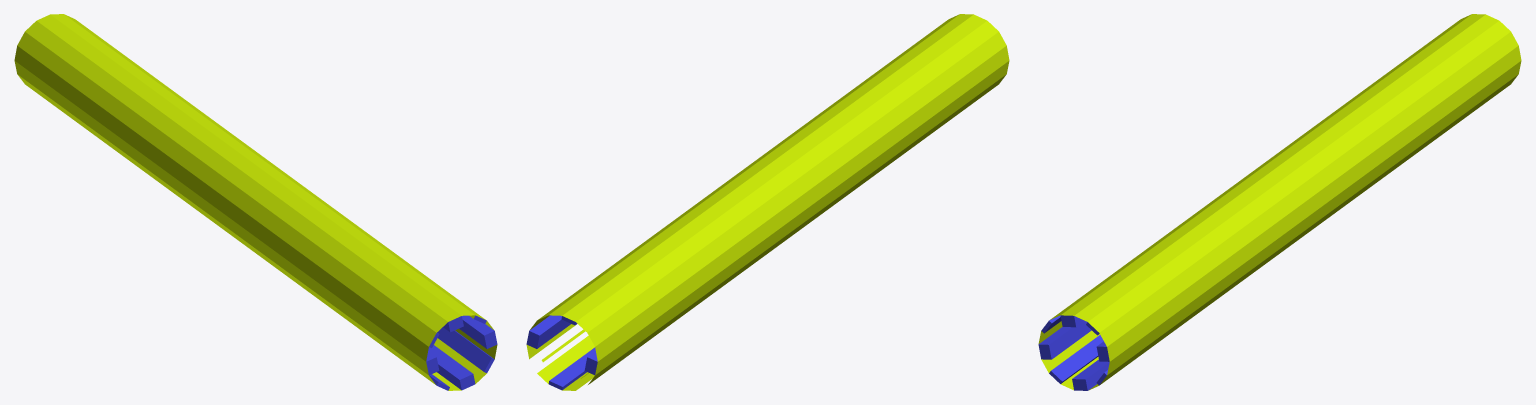
File: Tunel4.gltf
The picture shows the model from 3 angles, left to right: view 1: azimuth 30°, elevation 25°; view 2: azimuth 150°, elevation 25°; view 3: azimuth 330°, elevation 25°; orthographic projection.
Visible parts, largest first — view 1: Tubo.1-Mat, Tubo.1-Mat.1; view 2: Tubo.1-Mat, Tubo.1-Mat.1; view 3: Tubo.1-Mat, Tubo.1-Mat.1.
Part boxes in pixels (x1,y1,x2,y2): Tubo.1-Mat: (14, 14, 497, 390); Tubo.1-Mat.1: (426, 315, 497, 390); Tubo.1-Mat: (526, 14, 1009, 390); Tubo.1-Mat.1: (526, 315, 597, 390); Tubo.1-Mat: (1038, 14, 1521, 390); Tubo.1-Mat.1: (1038, 315, 1109, 390).
Size of the model in its own units: 0.1 by 0.1 by 1.
